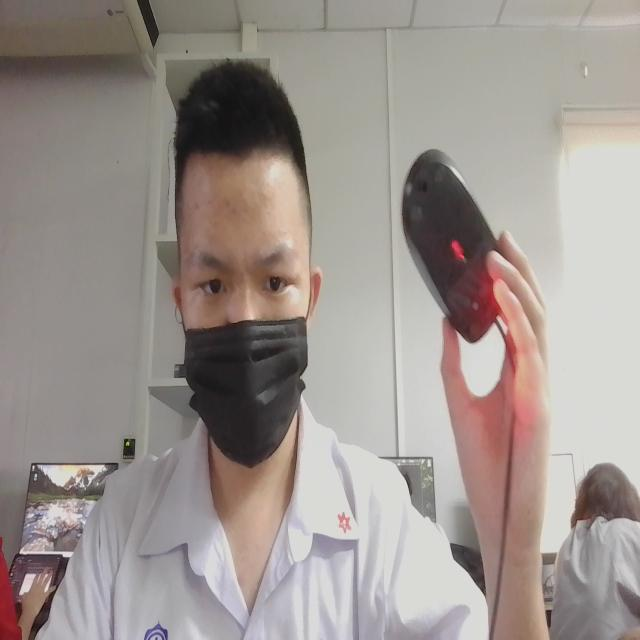mouse: (386, 121, 506, 355)
